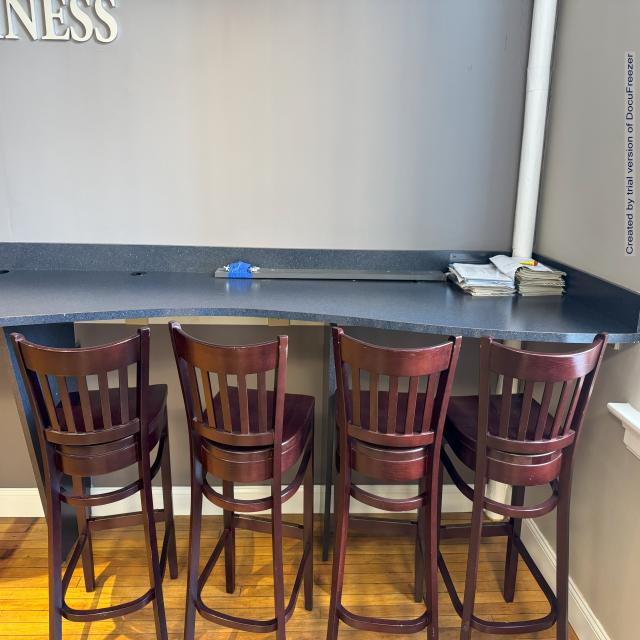chair: (0, 309, 174, 640), (177, 315, 314, 640), (327, 311, 459, 638), (483, 324, 603, 640)
